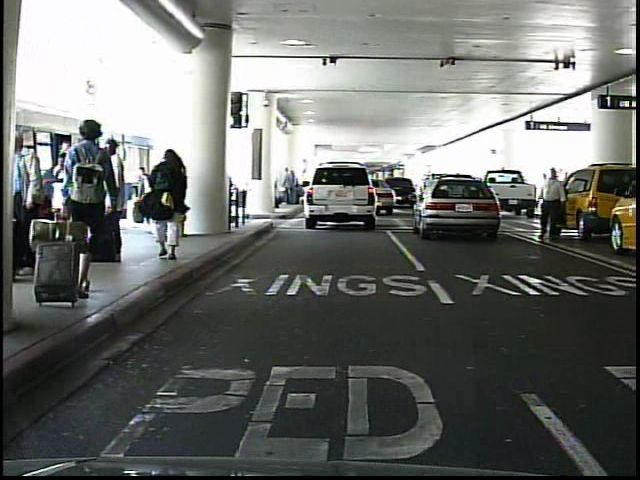person: (64, 111, 120, 309), (145, 143, 191, 269), (94, 137, 132, 270), (15, 126, 48, 274), (539, 167, 567, 246), (164, 157, 189, 237)
